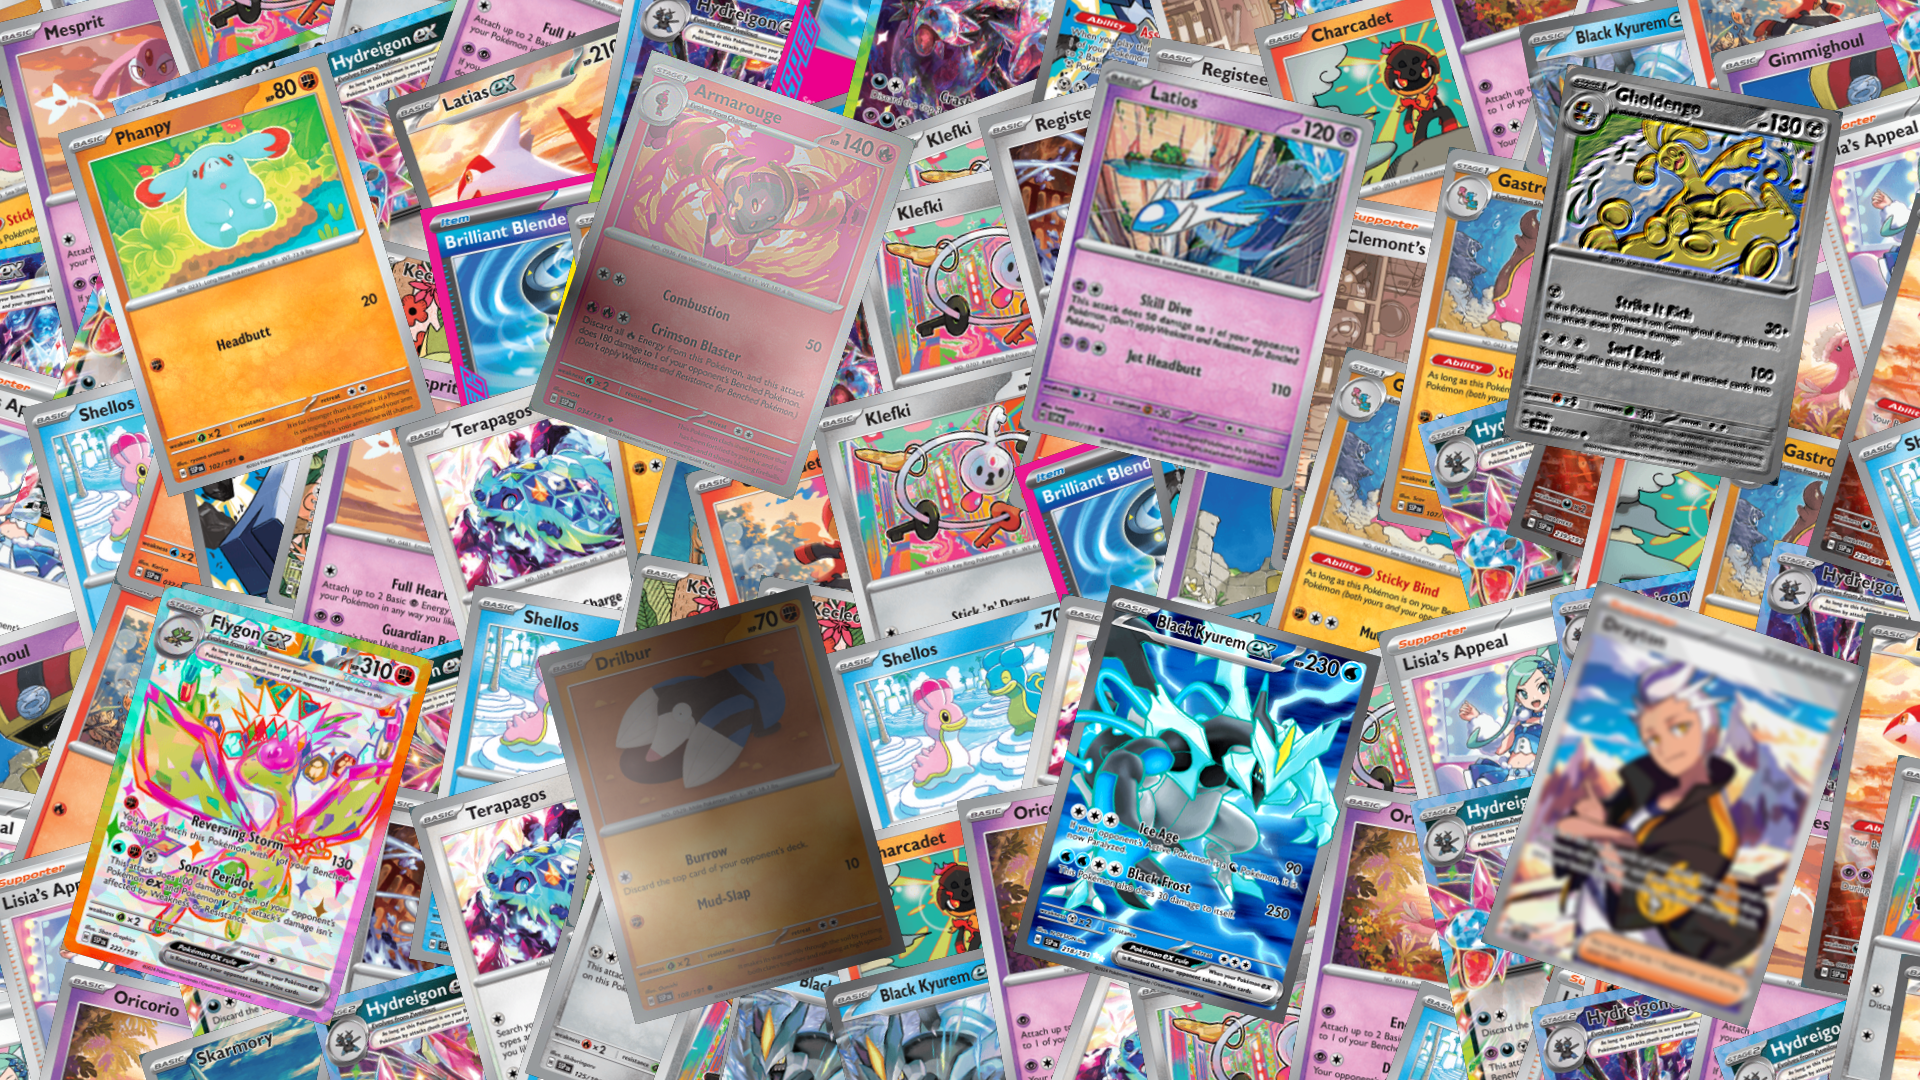Armarouge: (527, 49, 916, 500)
Black_Kyurem_ex: (1011, 584, 1381, 1025)
Drayton: (1480, 580, 1865, 1029)
Drilbur: (537, 584, 906, 1025)
Flygon_ex: (61, 583, 434, 1026)
Gholdengo: (1501, 63, 1844, 487)
Latios: (1017, 57, 1375, 491)
Phanpy: (57, 51, 436, 497)
